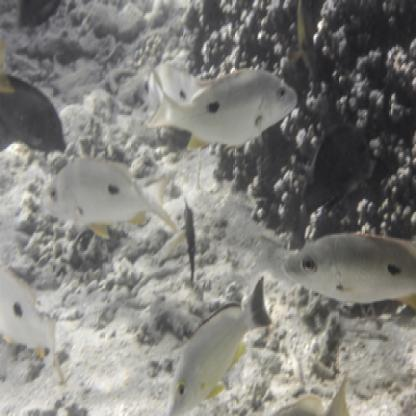Lutjanidae -Snappers-: (145, 53, 302, 156), (165, 272, 272, 416), (38, 157, 182, 243), (277, 226, 416, 315)
